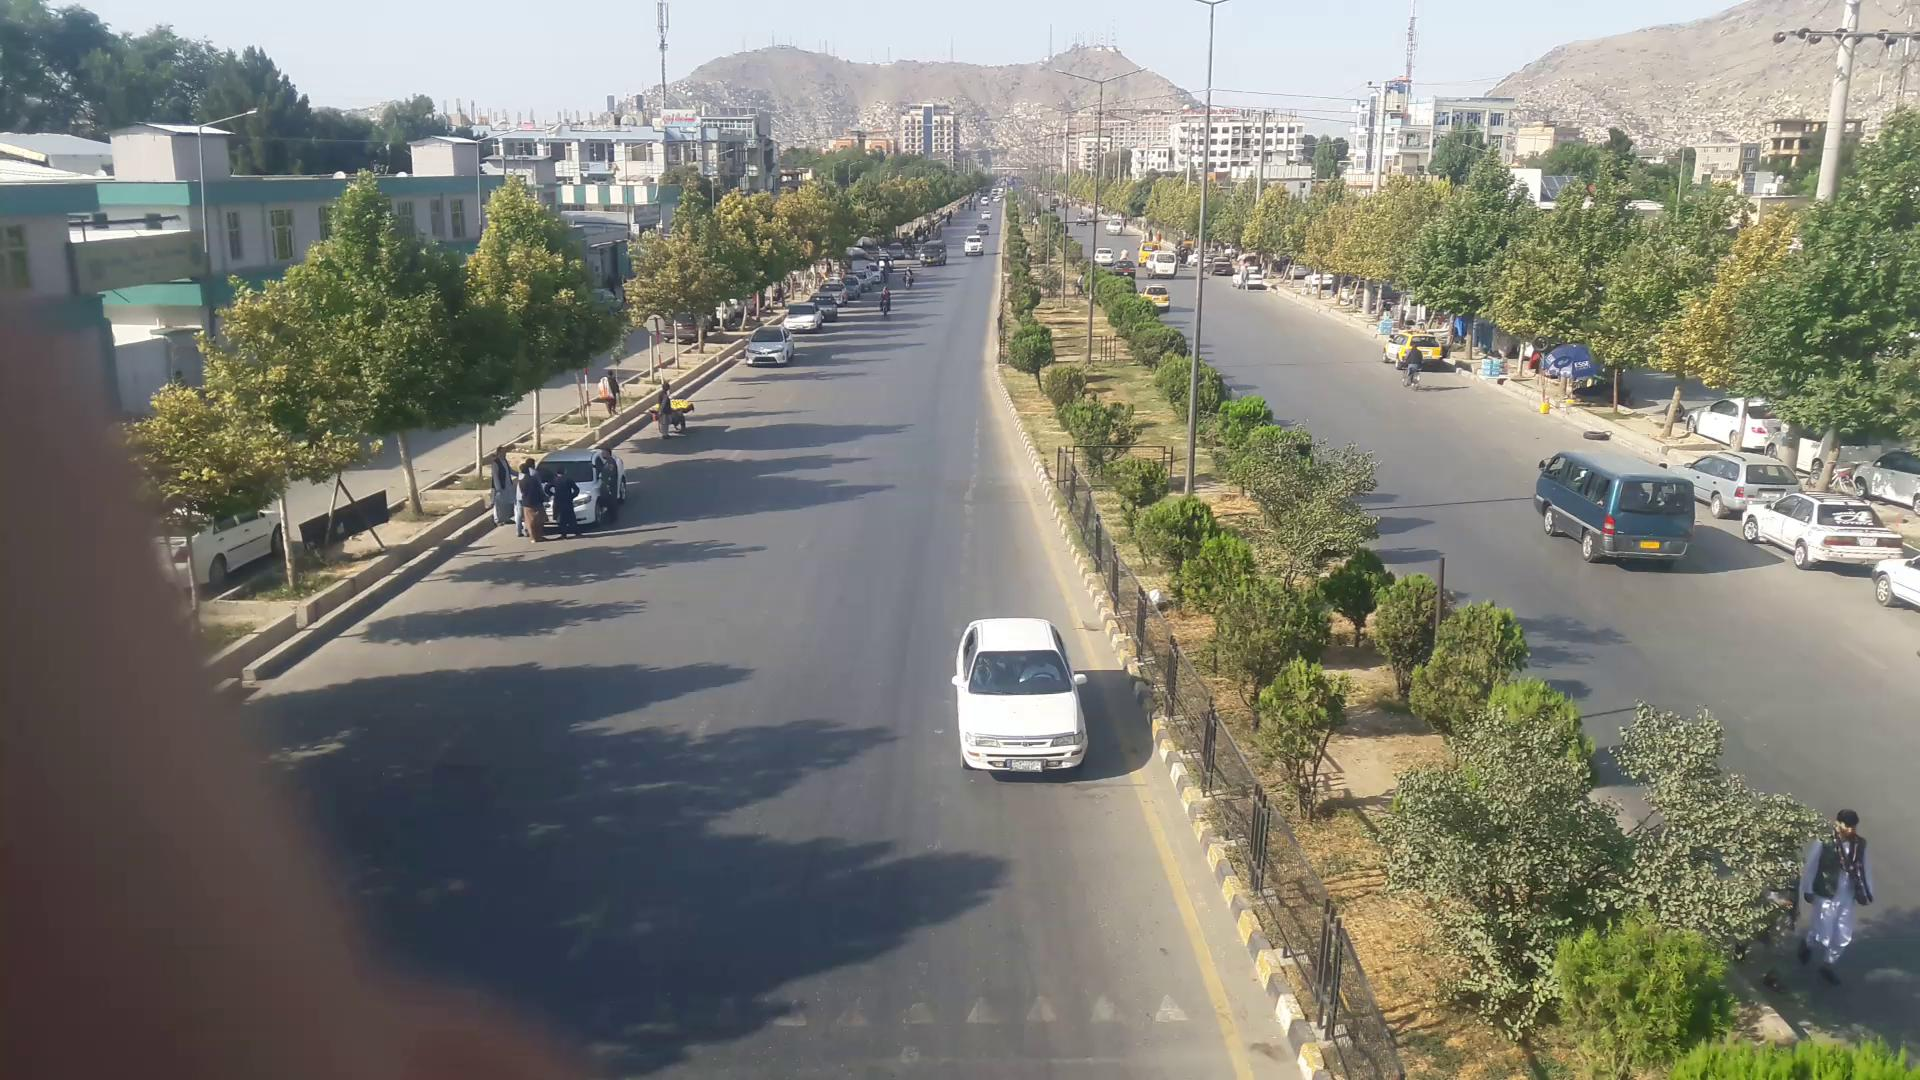bus: (1530, 444, 1709, 566)
car: (957, 617, 1093, 790), (1754, 491, 1907, 574), (1681, 454, 1811, 510), (752, 331, 799, 365), (787, 313, 824, 334)
